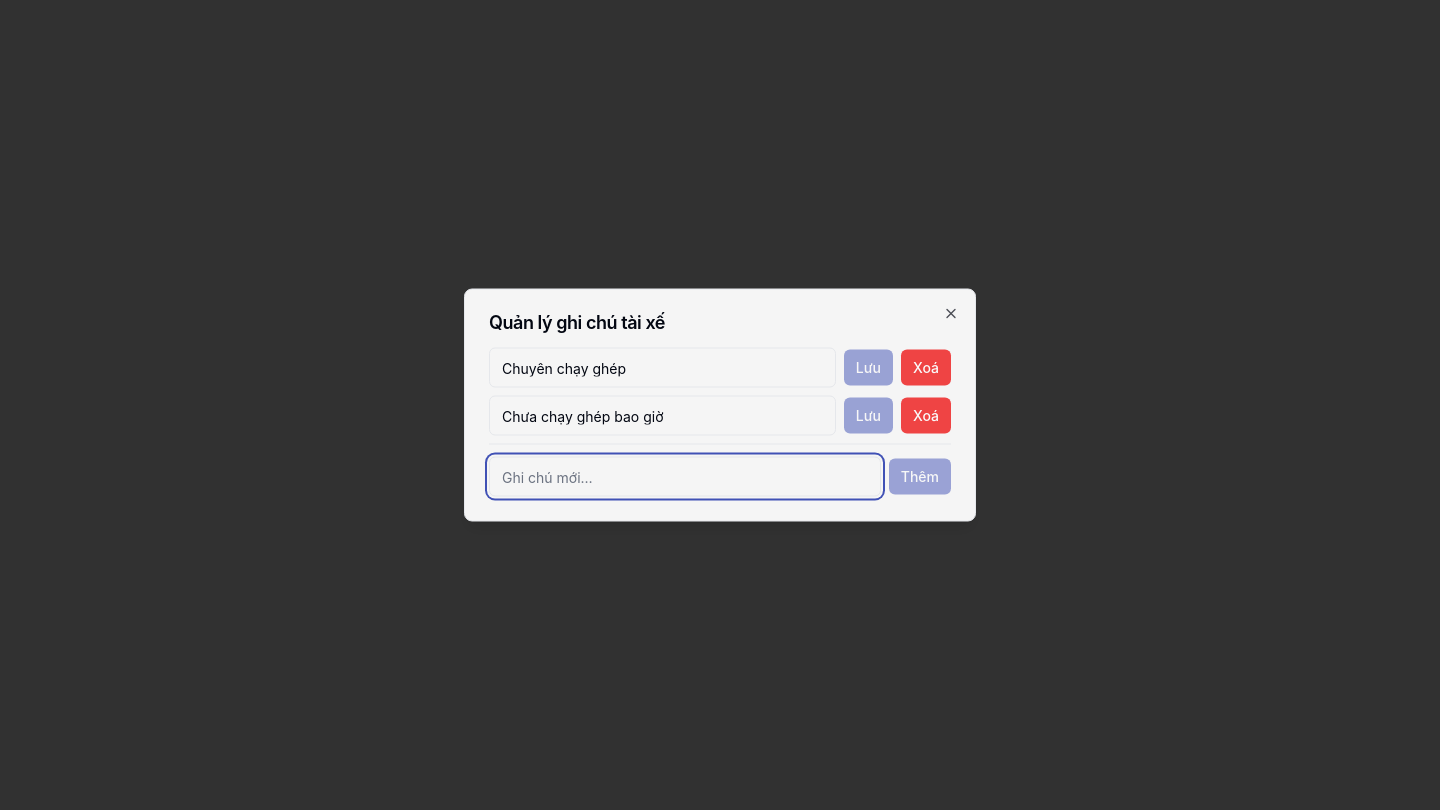
DriverNoteManageDialog › thêm mục mới → createDriverNotePreset("X")
Expected: the 1st field showing "Chuyên chạy ghép" is shown, [489,348,836,388]
Type " X " into the field with placeholder "Ghi chú mới…" at (685, 476), box [489,456,881,496]
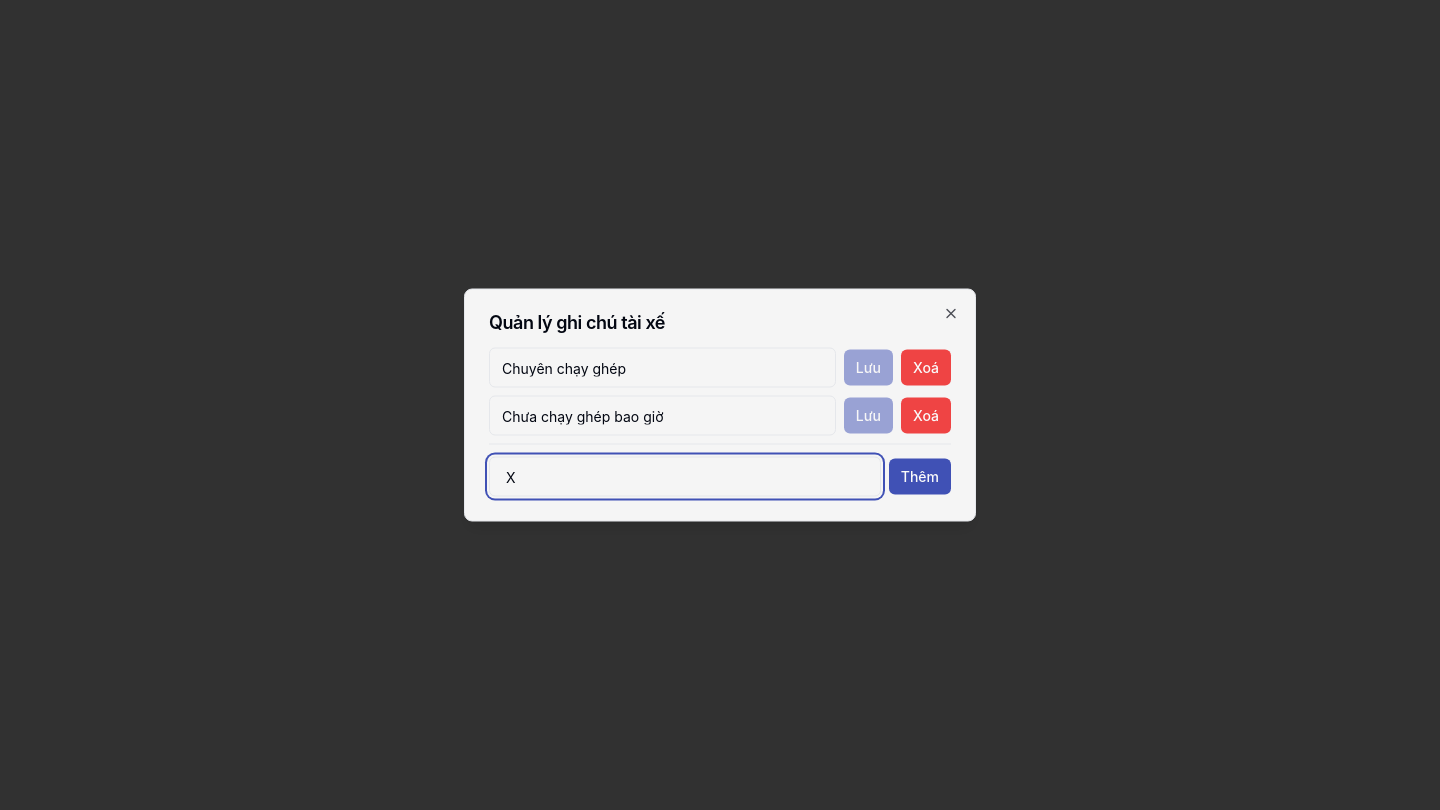
Click the button "Thêm" at (920, 476), box [889,458,951,494]
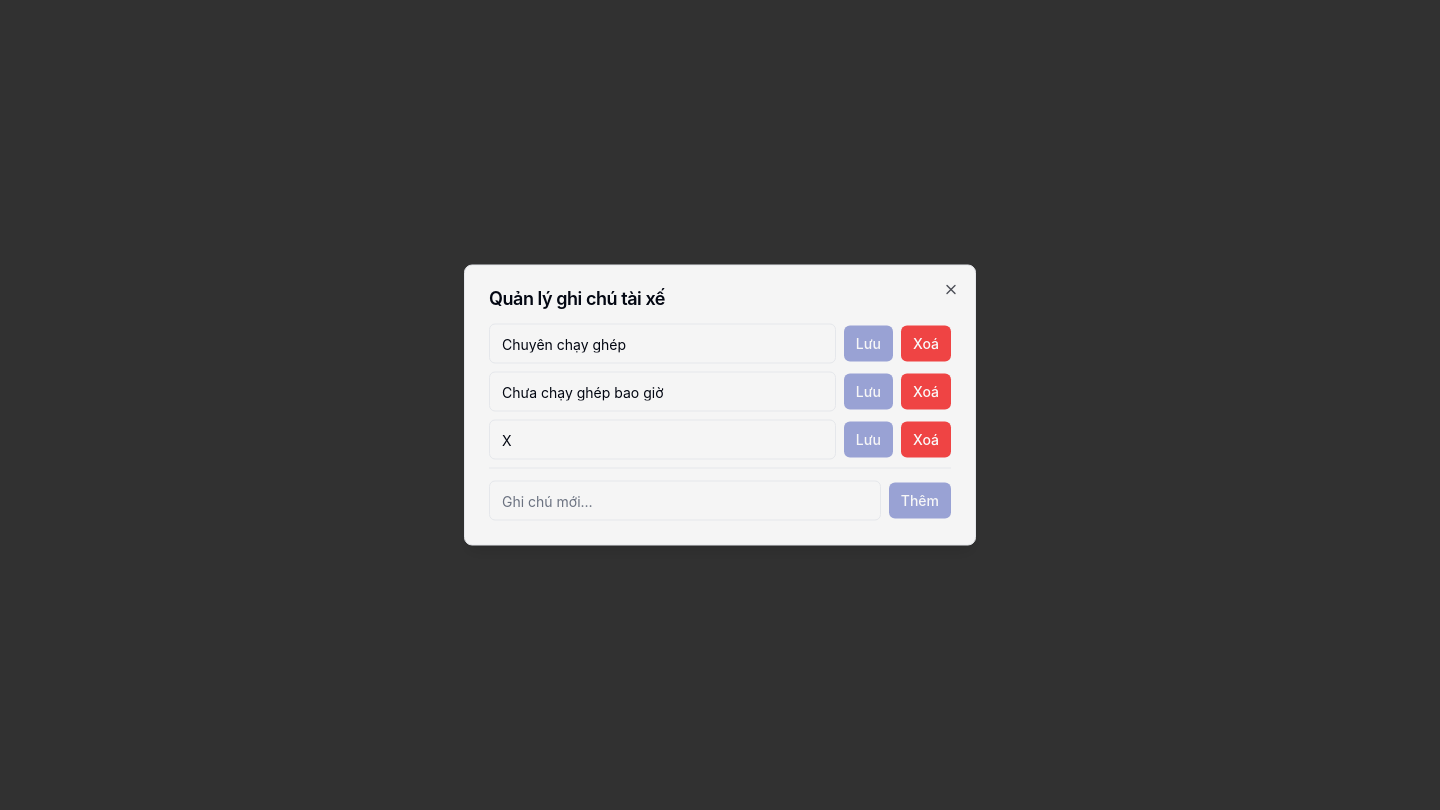
Now the 3rd field showing "X" is shown, box [489,420,836,460]
